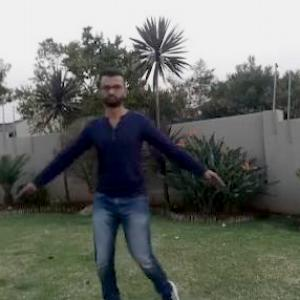land: (61, 92, 197, 260)
